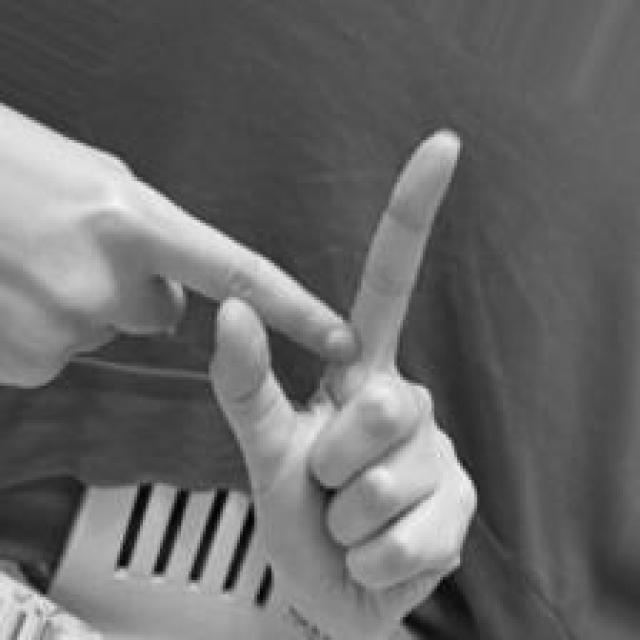J: (1, 111, 484, 640)
